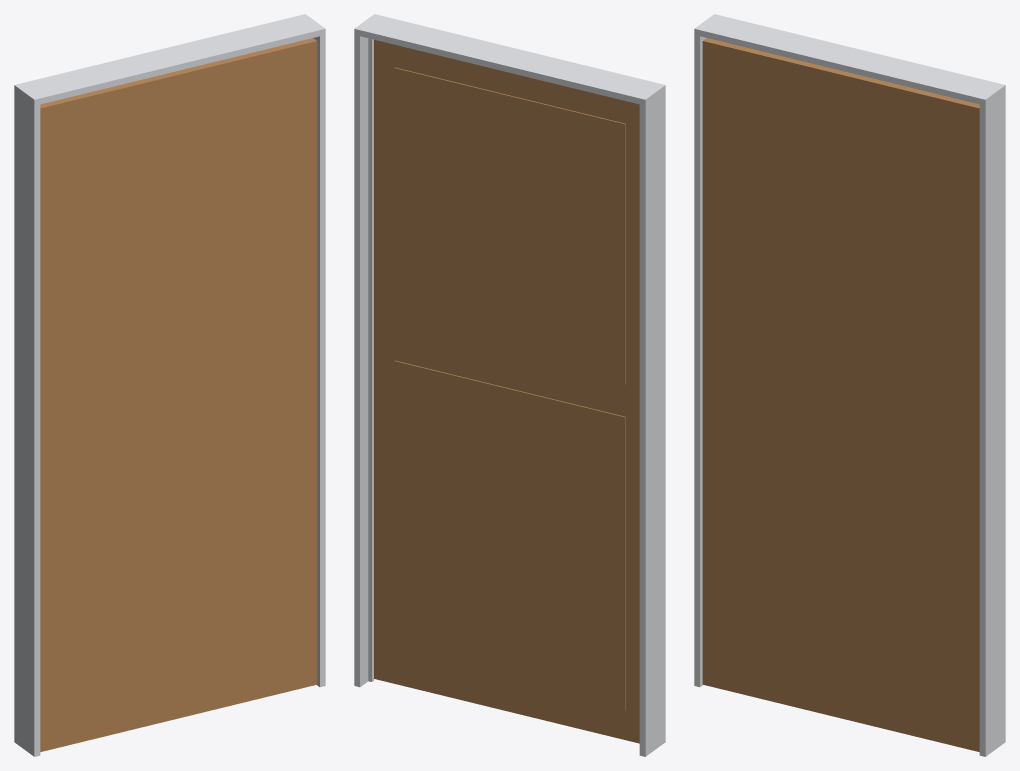
Rendered from door_prehung_36x80.mid.glb.
The picture shows the model from 3 angles, left to right: view 1: azimuth 30°, elevation 25°; view 2: azimuth 150°, elevation 25°; view 3: azimuth 330°, elevation 25°; orthographic projection.
Parts seen in each view (by area): view 1: slab_door_prehung_36x80, door_prehung_36x80; view 2: slab_door_prehung_36x80, door_prehung_36x80; view 3: slab_door_prehung_36x80, door_prehung_36x80.
Boxes of the visible parts, left/top/right/bottom form: slab_door_prehung_36x80: left=40, top=38, right=317, bottom=751; door_prehung_36x80: left=14, top=14, right=325, bottom=756; slab_door_prehung_36x80: left=374, top=39, right=639, bottom=743; door_prehung_36x80: left=354, top=14, right=665, bottom=756; slab_door_prehung_36x80: left=702, top=38, right=979, bottom=751; door_prehung_36x80: left=694, top=14, right=1005, bottom=756.
Size of the model in its own units: 0.9525 by 2.05 by 0.1143.
